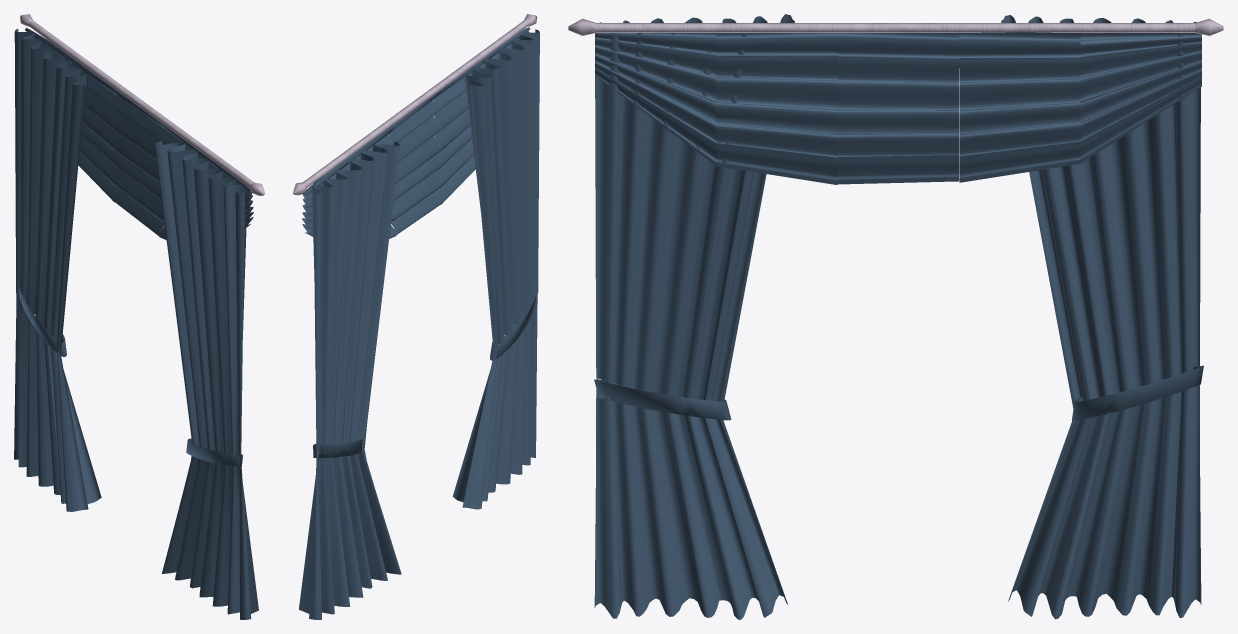
3 views of the same model, side by side, from view 1: azimuth 30°, elevation 25°; view 2: azimuth 150°, elevation 25°; view 3: azimuth 270°, elevation 25° (orthographic). The views are drawn at different scales.
Parts seen in each view (by area): view 1: Mesh11_end1_Group6_Model; view 2: Mesh11_end1_Group6_Model; view 3: Mesh11_end1_Group6_Model.
Boxes of the visible parts, <box> form: Mesh11_end1_Group6_Model: <box>14,14,264,619</box>; Mesh11_end1_Group6_Model: <box>293,14,539,619</box>; Mesh11_end1_Group6_Model: <box>568,14,1223,619</box>.
Bounding box in the file's own units: 0.1083 × 0.9992 × 1.01.
Materials: 2 (1 with a texture image).
